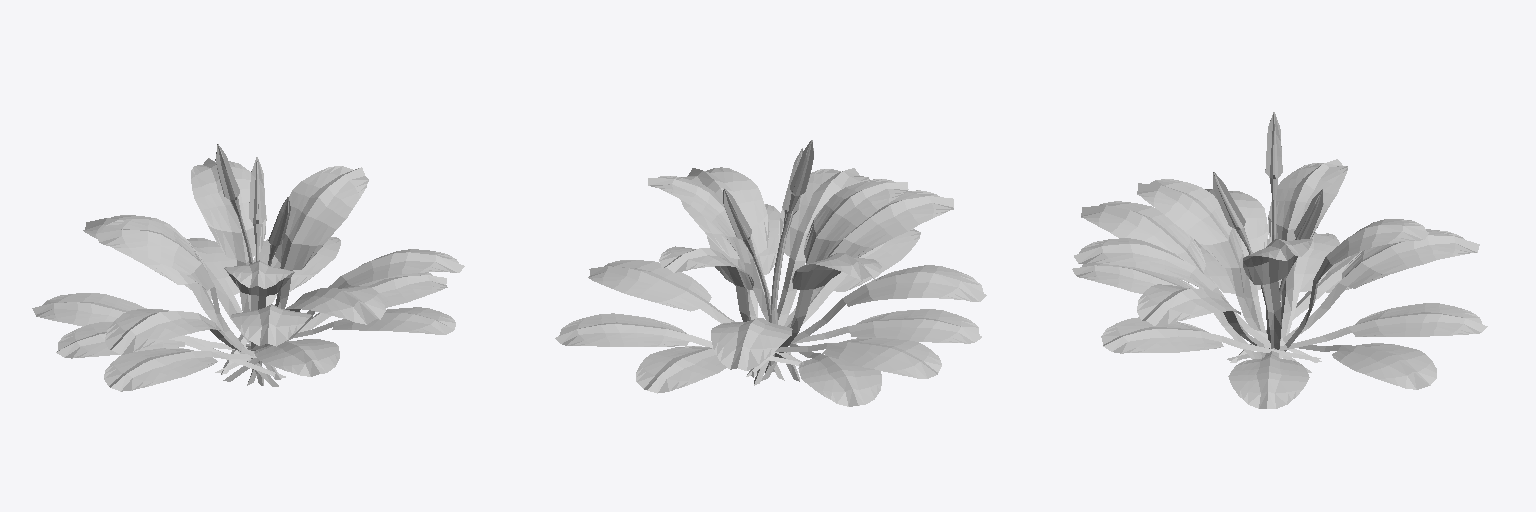
File: Bush_1.obj
3 renders of one model, left to right at view 1: azimuth 30°, elevation 25°; view 2: azimuth 150°, elevation 25°; view 3: azimuth 270°, elevation 25°, orthographic.
Parts seen in each view (by area): view 1: Plane.043, Plane.037, Plane.046, Plane.045, Plane.052, Plane.042, Plane.048, Cube.004, Plane.039, Plane.041, Plane.049, Plane.047 (+6 smaller); view 2: Plane.044, Plane.042, Plane.045, Plane.040, Plane.050, Plane.052, Plane.051, Plane.039, Plane.047, Plane.048, Cube.004, Plane.036 (+6 smaller); view 3: Plane.040, Plane.036, Plane.038, Plane.051, Plane.046, Plane.049, Plane.039, Plane.050, Plane.044, Plane.042, Cube.004, Plane.043 (+6 smaller).
Boxes of the visible parts, <box> form: Plane.043: <box>247,166,368,385</box>; Plane.037: <box>191,158,266,385</box>; Plane.046: <box>96,219,244,353</box>; Plane.045: <box>105,309,253,356</box>; Plane.052: <box>104,348,256,391</box>; Plane.042: <box>223,249,464,381</box>; Plane.048: <box>32,293,285,378</box>; Cube.004: <box>215,144,290,373</box>; Plane.039: <box>247,286,385,361</box>; Plane.041: <box>246,339,339,376</box>; Plane.049: <box>246,307,455,345</box>; Plane.047: <box>56,322,247,358</box>; Plane.044: <box>588,260,801,361</box>; Plane.042: <box>681,167,799,381</box>; Plane.045: <box>791,265,986,343</box>; Plane.040: <box>761,179,908,380</box>; Plane.050: <box>555,313,800,365</box>; Plane.052: <box>793,309,981,343</box>; Plane.051: <box>784,190,953,326</box>; Plane.039: <box>754,168,869,385</box>; Plane.047: <box>775,338,941,378</box>; Plane.048: <box>789,344,881,406</box>; Cube.004: <box>723,140,813,371</box>; Plane.036: <box>711,318,792,370</box>; Plane.040: <box>1137,179,1260,342</box>; Plane.036: <box>1259,229,1479,358</box>; Plane.038: <box>1227,303,1487,360</box>; Plane.051: <box>1081,201,1259,359</box>; Plane.046: <box>1268,159,1347,337</box>; Plane.049: <box>1101,317,1320,360</box>; Plane.039: <box>1074,238,1311,372</box>; Plane.050: <box>1299,343,1436,389</box>; Plane.044: <box>1228,348,1309,408</box>; Plane.042: <box>1137,284,1261,346</box>; Cube.004: <box>1213,112,1323,348</box>; Plane.043: <box>1243,238,1312,349</box>.
Size of the model in its own units: 7.43 by 4.77 by 7.25.